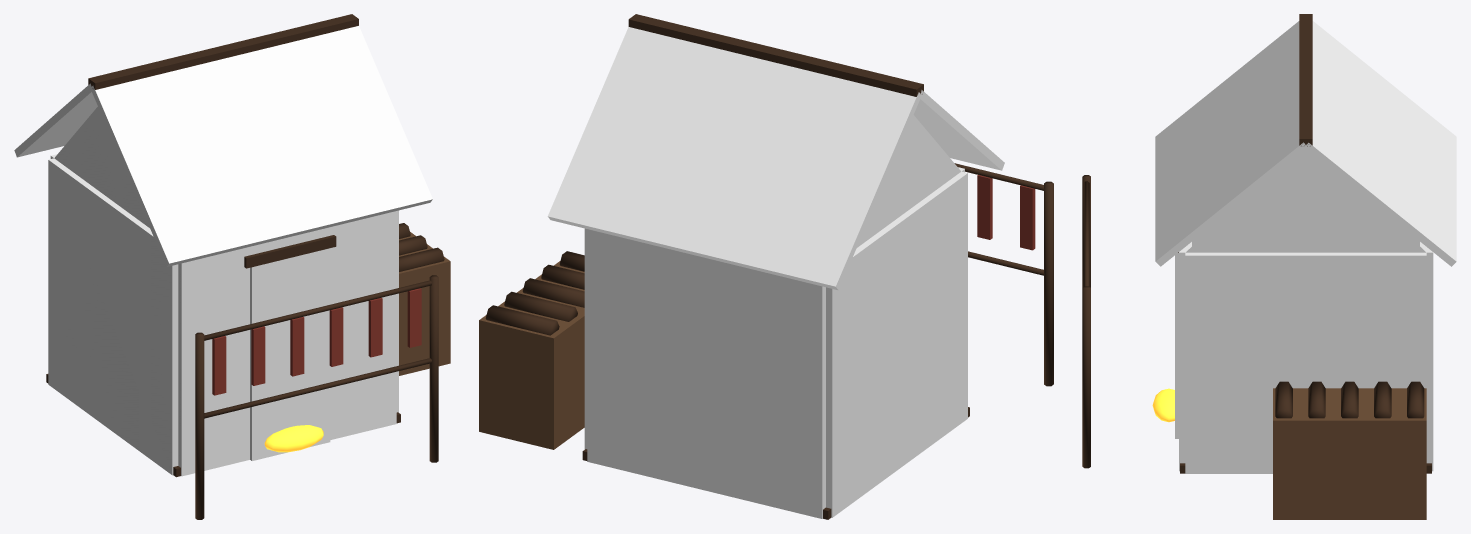
Rendered from wedzarnia.glb.
3 renders of one model, left to right at view 1: azimuth 30°, elevation 25°; view 2: azimuth 150°, elevation 25°; view 3: azimuth 270°, elevation 25°, orthographic. The views are drawn at different scales.
Visible parts, largest first — view 1: wedzarnia_9, wedzarnia_3, wedzarnia_1, wedzarnia_6, wedzarnia_11, wedzarnia_23, wedzarnia_12, wedzarnia_8, wedzarnia_13, wedzarnia_14, wedzarnia_16, wedzarnia_15 (+10 smaller); view 2: wedzarnia_8, wedzarnia_2, wedzarnia_3, wedzarnia_23, wedzarnia_11, wedzarnia_12, wedzarnia_9, wedzarnia_13, wedzarnia_28, wedzarnia_27, wedzarnia_26, wedzarnia_17 (+3 smaller); view 3: wedzarnia_4, wedzarnia_8, wedzarnia_9, wedzarnia_23, wedzarnia_10, wedzarnia_12, wedzarnia_2, wedzarnia_14, wedzarnia_1, wedzarnia_6, wedzarnia_28, wedzarnia_25 (+6 smaller).
Part boxes in pixels (x1,y1,x2,y2): wedzarnia_9: [91, 26, 432, 266]; wedzarnia_3: [48, 158, 178, 475]; wedzarnia_1: [178, 211, 396, 476]; wedzarnia_6: [250, 248, 330, 460]; wedzarnia_11: [54, 107, 149, 227]; wedzarnia_23: [399, 232, 450, 375]; wedzarnia_12: [88, 14, 358, 89]; wedzarnia_8: [14, 83, 97, 157]; wedzarnia_13: [195, 332, 204, 519]; wedzarnia_14: [429, 275, 438, 462]; wedzarnia_16: [204, 280, 431, 340]; wedzarnia_15: [204, 358, 431, 418]; wedzarnia_8: [547, 27, 921, 290]; wedzarnia_2: [587, 229, 825, 518]; wedzarnia_3: [826, 171, 967, 517]; wedzarnia_23: [479, 261, 584, 449]; wedzarnia_11: [857, 115, 960, 247]; wedzarnia_12: [628, 14, 923, 96]; wedzarnia_9: [913, 90, 1004, 170]; wedzarnia_13: [1044, 181, 1053, 386]; wedzarnia_28: [485, 305, 559, 335]; wedzarnia_27: [504, 291, 577, 321]; wedzarnia_26: [522, 278, 584, 307]; wedzarnia_17: [1020, 185, 1035, 250]; wedzarnia_4: [1185, 250, 1426, 473]; wedzarnia_8: [1304, 21, 1456, 266]; wedzarnia_9: [1155, 21, 1307, 266]; wedzarnia_23: [1273, 388, 1426, 519]; wedzarnia_10: [1186, 150, 1425, 252]; wedzarnia_12: [1299, 14, 1312, 146]; wedzarnia_2: [1420, 242, 1433, 471]; wedzarnia_14: [1082, 286, 1090, 468]; wedzarnia_1: [1179, 242, 1191, 471]; wedzarnia_6: [1175, 253, 1178, 438]; wedzarnia_28: [1407, 381, 1424, 418]; wedzarnia_25: [1308, 381, 1325, 418].
Bounding box in the file's own units: 3.58 × 3.46 × 3.41.
